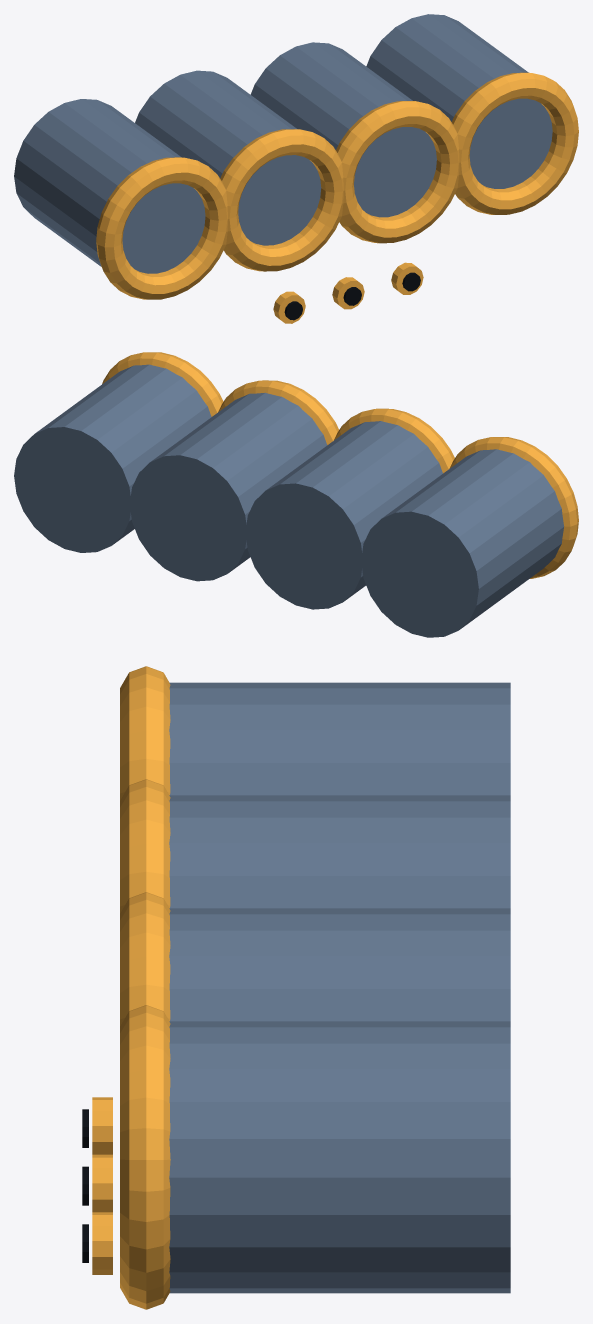
The model's file is 46_L90_ThrusterGimbalActuatorBank.fbx.
3 renders of one model, top to bottom at view 1: azimuth 30°, elevation 25°; view 2: azimuth 150°, elevation 25°; view 3: azimuth 270°, elevation 25°, orthographic. The views are drawn at different scales.
Visible parts, largest first — view 1: L90_ThrusterGimbalActuatorBank, L90_ThrusterGimbalActuatorBank_Part_0001, L90_ThrusterGimbalActuatorBank_Part_0004, L90_ThrusterGimbalActuatorBank_Part_0002, L90_ThrusterGimbalActuatorBank_Part_0006; view 2: L90_ThrusterGimbalActuatorBank, L90_ThrusterGimbalActuatorBank_Part_0001; view 3: L90_ThrusterGimbalActuatorBank, L90_ThrusterGimbalActuatorBank_Part_0001, L90_ThrusterGimbalActuatorBank_Part_0006, L90_ThrusterGimbalActuatorBank_Part_0004, L90_ThrusterGimbalActuatorBank_Part_0002.
Part boxes in pixels (bbox=[...]): L90_ThrusterGimbalActuatorBank: bbox=[14, 14, 552, 273]; L90_ThrusterGimbalActuatorBank_Part_0001: bbox=[96, 72, 578, 299]; L90_ThrusterGimbalActuatorBank_Part_0004: bbox=[332, 277, 364, 309]; L90_ThrusterGimbalActuatorBank_Part_0002: bbox=[273, 291, 305, 323]; L90_ThrusterGimbalActuatorBank_Part_0006: bbox=[391, 262, 423, 294]; L90_ThrusterGimbalActuatorBank: bbox=[14, 364, 564, 637]; L90_ThrusterGimbalActuatorBank_Part_0001: bbox=[102, 352, 578, 578]; L90_ThrusterGimbalActuatorBank: bbox=[169, 682, 510, 1293]; L90_ThrusterGimbalActuatorBank_Part_0001: bbox=[120, 666, 170, 1309]; L90_ThrusterGimbalActuatorBank_Part_0006: bbox=[92, 1212, 112, 1274]; L90_ThrusterGimbalActuatorBank_Part_0004: bbox=[92, 1154, 112, 1212]; L90_ThrusterGimbalActuatorBank_Part_0002: bbox=[92, 1097, 112, 1154].
Size of the model in its own units: 228 by 82.83 by 88.2.
